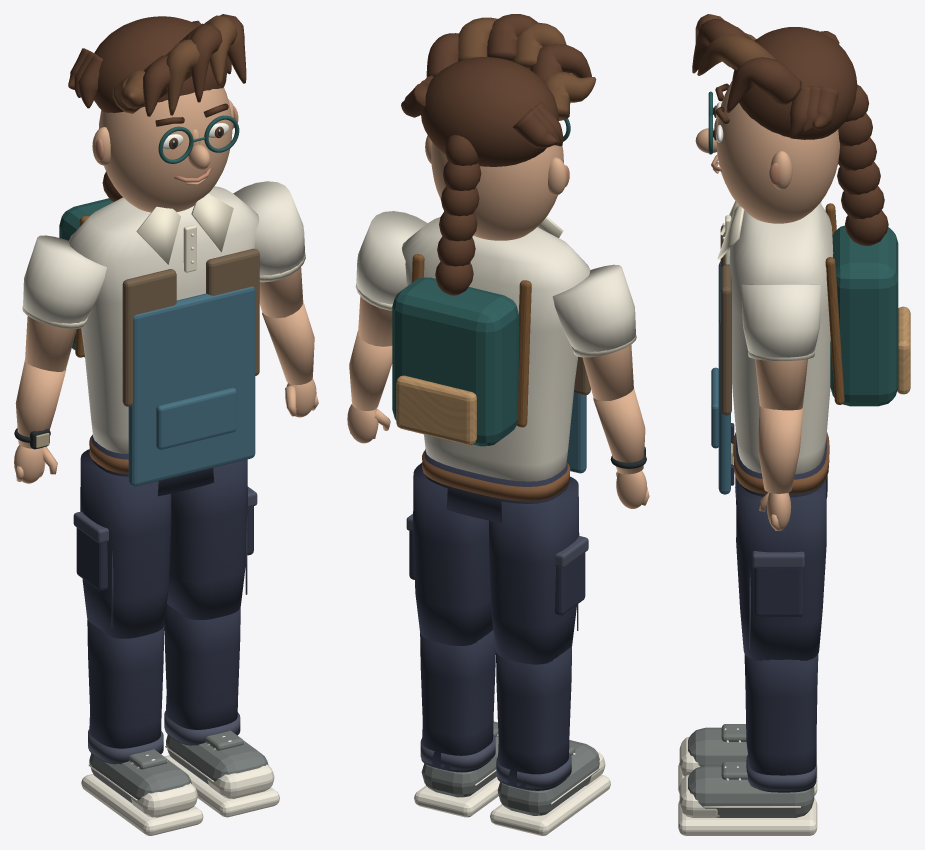
Rendered from modular-student.glb.
3 views of the same model, side by side, from view 1: azimuth 30°, elevation 25°; view 2: azimuth 150°, elevation 25°; view 3: azimuth 270°, elevation 25° (orthographic). The views are drawn at different scales.
Parts seen in each view (by area): view 1: apron_front, student_body_geometry.001_apron, student_knee_left_geometry, student_knee_right_geometry, student_hip_left_geometry, student_hair_geometry_braid, student_hip_right_geometry, student_head, student_shoulder_left_geometry.001_apron, student_shoulder_right_geometry.001_apron, student_elbow_left_geometry, student_elbow_right_geometry (+8 smaller); view 2: student_hair_geometry_braid, student_body_geometry.001_apron, student_knee_left_geometry, student_backpack, student_hip_left_geometry, student_knee_right_geometry, student_hip_right_geometry, student_head, student_shoulder_left_geometry.001_apron, student_body_geometry, backpack_pocket, student_shoulder_right_geometry.001_apron (+13 smaller); view 3: student_knee_right_geometry, student_body_geometry.001_apron, student_hair_geometry_braid, student_hip_right_geometry, student_backpack, student_head, student_shoulder_right_geometry.001_apron, student_elbow_right_geometry, student_knee_left_geometry, student_shoulder_right_geometry, student_body_geometry, vest_panel.001 (+11 smaller).
Boxes of the visible parts, x1,y1,x2,y2 form: apron_front: (128,286,255,486); student_body_geometry.001_apron: (69,186,259,453); student_knee_left_geometry: (81,620,203,835); student_knee_right_geometry: (164,604,279,817); student_hip_left_geometry: (73,449,171,638); student_hair_geometry_braid: (68,14,246,116); student_hip_right_geometry: (167,459,257,619); student_head: (99,87,232,212); student_shoulder_left_geometry.001_apron: (22,235,106,328); student_shoulder_right_geometry.001_apron: (233,181,305,282); student_elbow_left_geometry: (14,360,66,483); student_elbow_right_geometry: (262,301,318,417); student_hair_geometry_braid: (401,14,596,166); student_body_geometry.001_apron: (402,216,590,481); student_knee_left_geometry: (490,646,610,835); student_backpack: (392,277,518,446); student_hip_left_geometry: (489,476,588,664); student_knee_right_geometry: (414,630,499,817); student_hip_right_geometry: (406,462,493,645); student_head: (431,142,563,240); student_shoulder_left_geometry.001_apron: (552,264,636,357); student_body_geometry: (422,449,570,523); backpack_pocket: (396,375,476,444); student_shoulder_right_geometry.001_apron: (355,211,427,310); student_knee_right_geometry: (678,654,818,835); student_body_geometry.001_apron: (717,201,833,474); student_hair_geometry_braid: (692,14,857,139); student_hip_right_geometry: (736,480,826,660); student_backpack: (830,225,898,406); student_head: (716,81,839,223); student_shoulder_right_geometry.001_apron: (741,284,821,360); student_elbow_right_geometry: (758,406,803,530); student_knee_left_geometry: (678,724,817,795); student_shoulder_right_geometry: (755,359,807,410); student_body_geometry: (731,423,829,499); vest_panel.001: (720,265,731,415).
Size of the model in its own units: 0.726 by 1.79 by 0.4765.
Materials: 27 (4 with a texture image).
